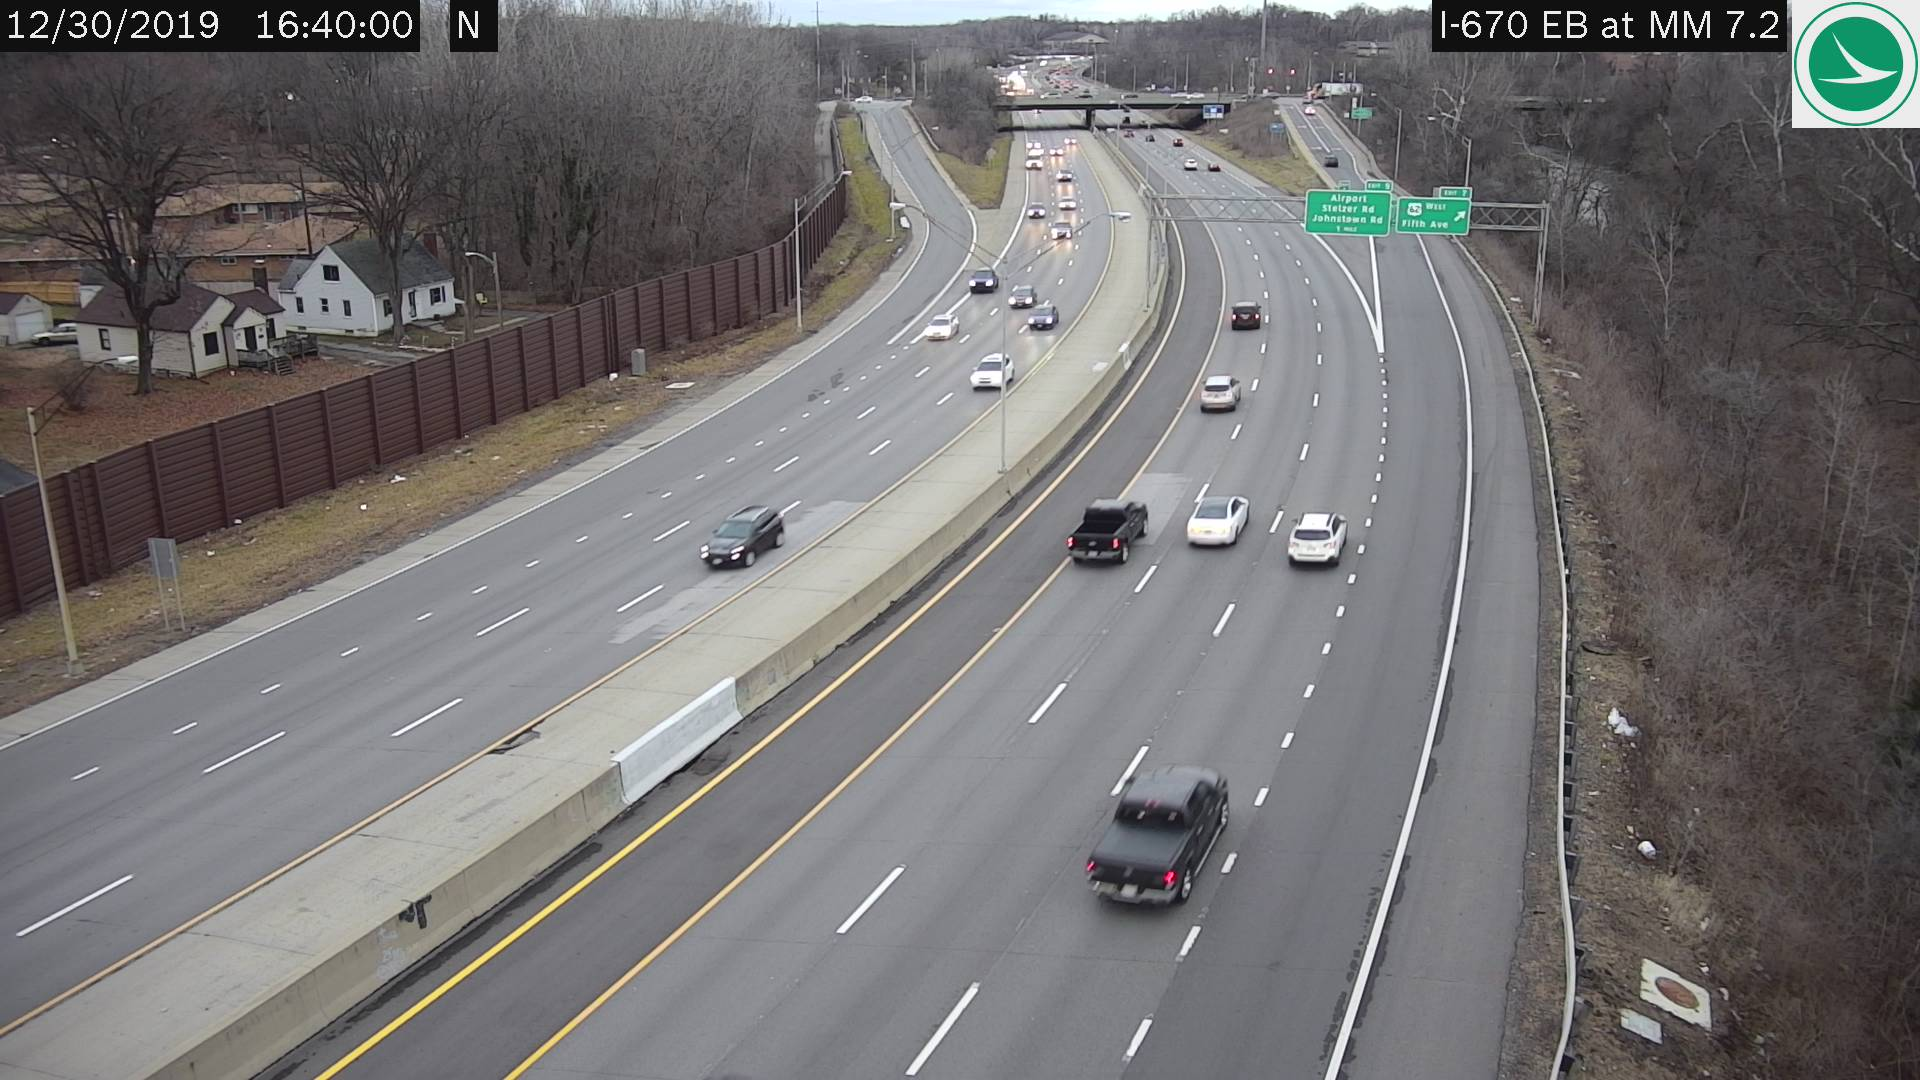car: (1083, 767, 1226, 916), (1069, 496, 1146, 564), (702, 504, 782, 568), (1290, 508, 1342, 568), (1185, 495, 1245, 545), (1201, 371, 1241, 411), (971, 352, 1014, 388), (1027, 303, 1058, 331), (926, 313, 956, 340), (1230, 301, 1258, 328), (968, 266, 998, 291), (1007, 284, 1035, 309), (1026, 200, 1048, 218), (1051, 222, 1071, 237), (1026, 152, 1040, 170), (1058, 196, 1076, 210), (1056, 167, 1073, 179), (1183, 157, 1197, 170)
